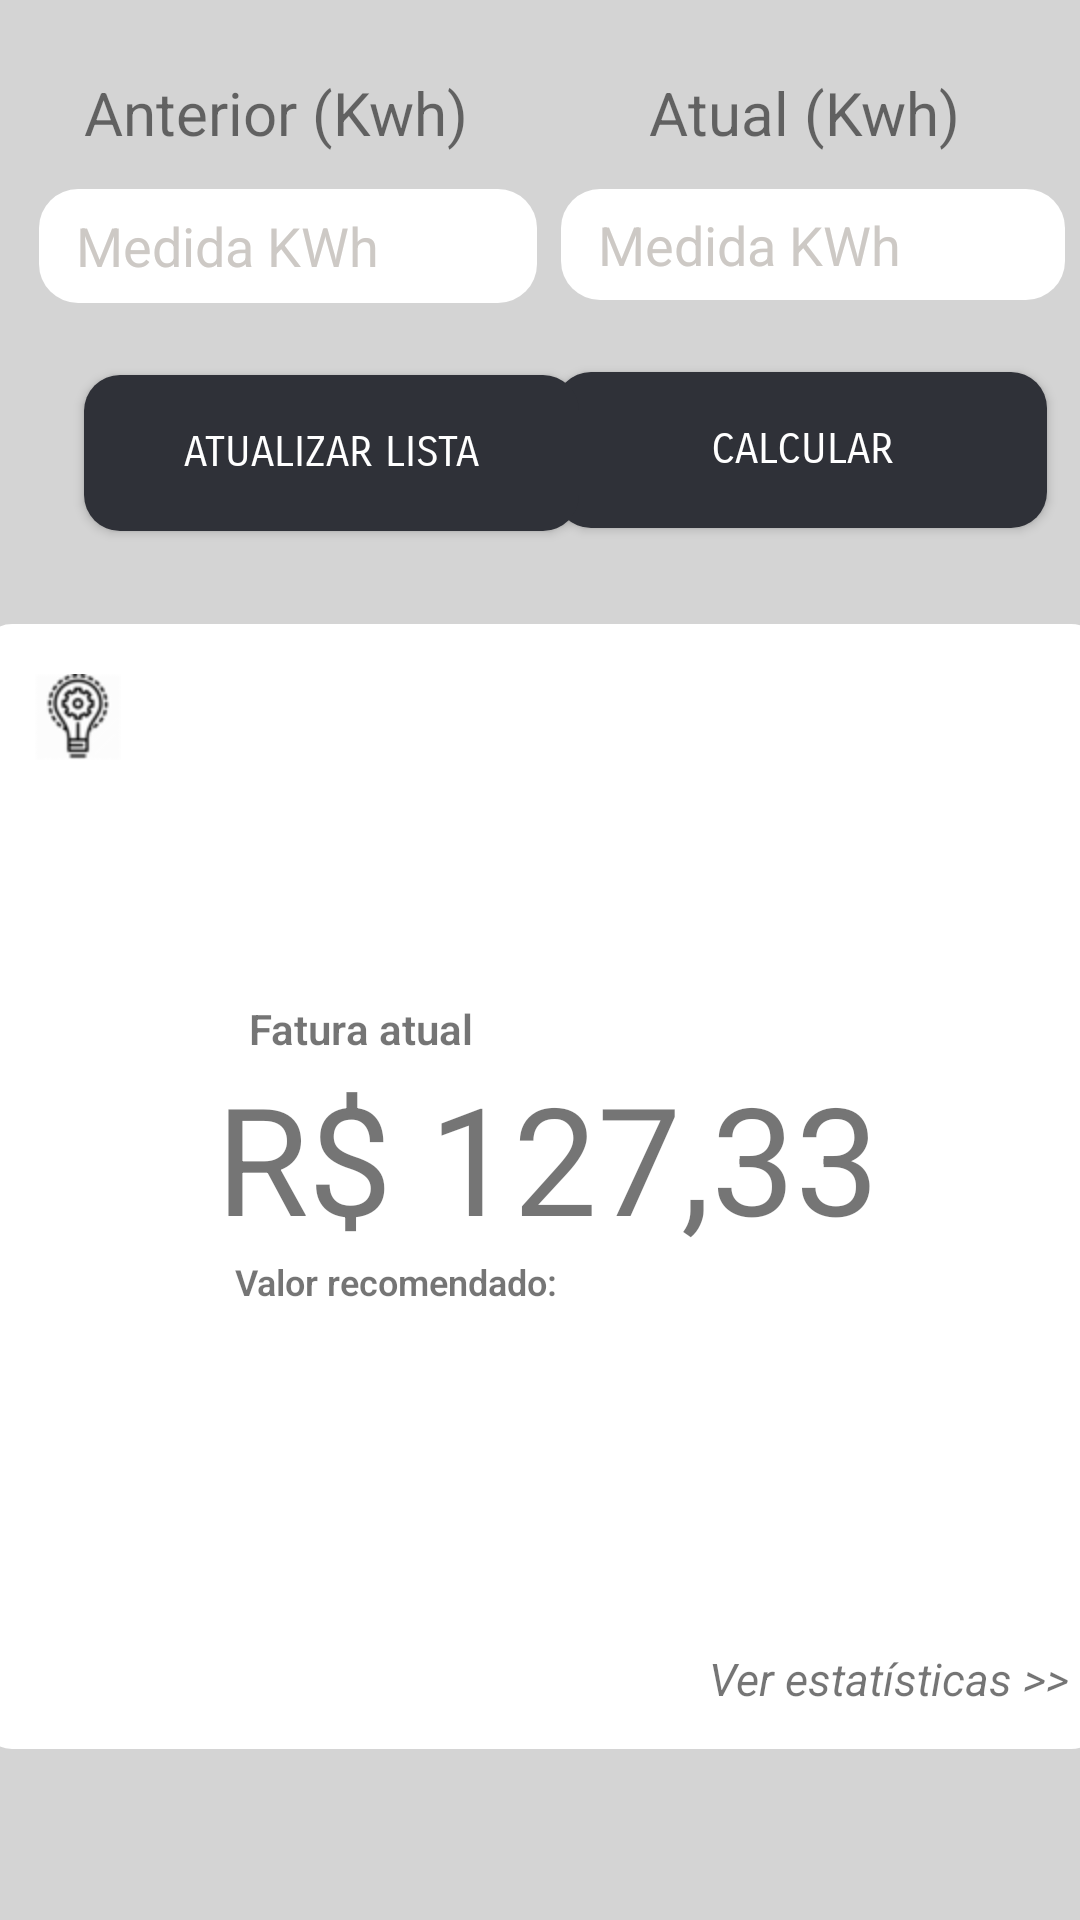

Screen size 1080px×1920px. Icon name, then its box in pixels as region(x1, y1, x2, y2):
config luz: region(47, 674, 109, 759)
